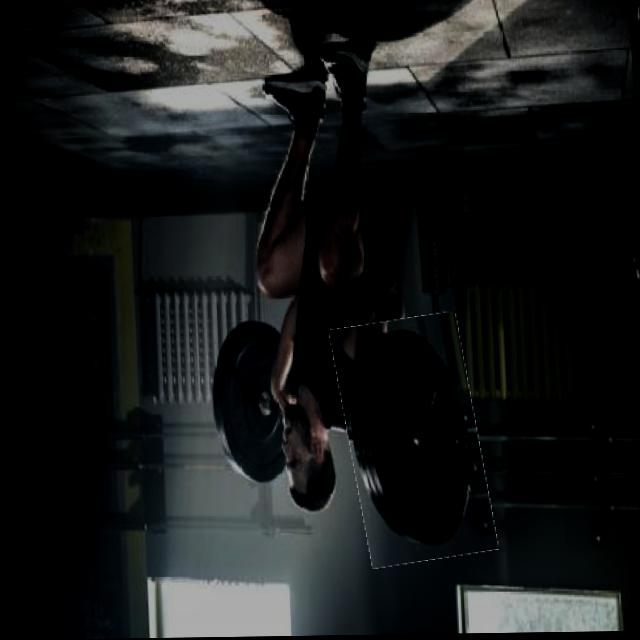barbell: (334, 317, 487, 567)
